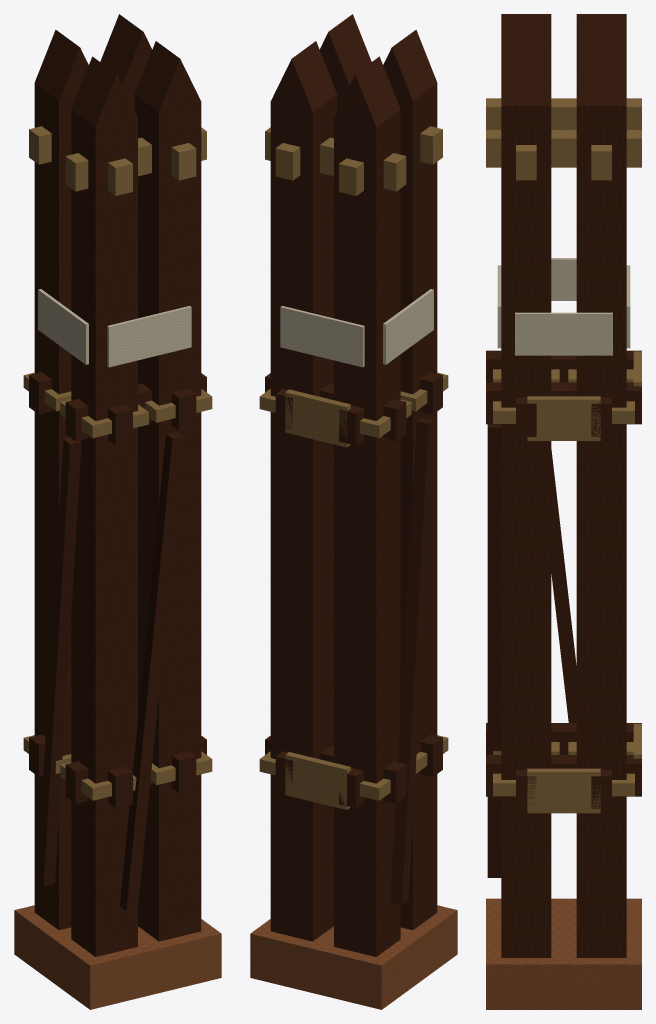
The model's file is Berber_PalisadeBastion_Age2_corner_90.fbx.
3 views of the same model, side by side, from view 1: azimuth 30°, elevation 25°; view 2: azimuth 150°, elevation 25°; view 3: azimuth 270°, elevation 25° (orthographic). The views are drawn at different scales.
Parts seen in each view (by area): view 1: split_timber_upright.008, split_timber_upright.010, split_timber_upright.009, compacted_earth_footing.002, terminal_diagonal_stay.012, terminal_diagonal_stay.010, native_owner_stripe_source.010, split_timber_upright.011, native_owner_stripe_source.008, locking_head_tie_x.004, bundle_cross_tie_x.010, bundle_cross_tie_y.009 (+12 smaller); view 2: split_timber_upright.009, split_timber_upright.011, split_timber_upright.008, compacted_earth_footing.002, terminal_diagonal_stay.010, native_owner_stripe_source.011, exposed_wall_socket_collar.008, exposed_wall_socket_collar.009, split_timber_upright.010, native_owner_stripe_source.008, locking_head_tie_x.005, bundle_cross_tie_x.011 (+10 smaller); view 3: split_timber_upright.010, split_timber_upright.011, compacted_earth_footing.002, terminal_diagonal_stay.012, native_owner_stripe_source.009, exposed_wall_socket_collar.006, terminal_diagonal_stay.010, exposed_wall_socket_collar.007, locking_head_tie_y.005, locking_head_tie_y.004, split_timber_upright.008, split_timber_upright.009 (+13 smaller).
Part boxes in pixels (left/top/right/bottom): split_timber_upright.008: left=71, top=56, right=137, bottom=956; split_timber_upright.010: left=134, top=41, right=201, bottom=941; split_timber_upright.009: left=34, top=30, right=88, bottom=930; compacted_earth_footing.002: left=14, top=905, right=221, bottom=1009; terminal_diagonal_stay.012: left=119, top=432, right=183, bottom=911; terminal_diagonal_stay.010: left=37, top=437, right=81, bottom=886; native_owner_stripe_source.010: left=107, top=306, right=191, bottom=367; split_timber_upright.011: left=100, top=14, right=152, bottom=109; native_owner_stripe_source.008: left=38, top=289, right=88, bottom=364; locking_head_tie_x.004: left=65, top=127, right=206, bottom=191; bundle_cross_tie_x.010: left=65, top=373, right=206, bottom=441; bundle_cross_tie_y.009: left=171, top=751, right=196, bottom=792; split_timber_upright.009: left=334, top=56, right=400, bottom=956; split_timber_upright.011: left=270, top=41, right=337, bottom=941; split_timber_upright.008: left=383, top=30, right=437, bottom=930; compacted_earth_footing.002: left=250, top=905, right=457, bottom=1009; terminal_diagonal_stay.010: left=390, top=417, right=434, bottom=904; native_owner_stripe_source.011: left=280, top=306, right=364, bottom=367; exposed_wall_socket_collar.008: left=285, top=752, right=350, bottom=809; exposed_wall_socket_collar.009: left=285, top=389, right=350, bottom=447; split_timber_upright.010: left=319, top=14, right=371, bottom=109; native_owner_stripe_source.008: left=383, top=289, right=433, bottom=364; locking_head_tie_x.005: left=265, top=127, right=406, bottom=191; bundle_cross_tie_x.011: left=265, top=373, right=406, bottom=441; split_timber_upright.010: left=501, top=46, right=551, bottom=957; split_timber_upright.011: left=576, top=46, right=626, bottom=957; compacted_earth_footing.002: left=486, top=898, right=641, bottom=1009; terminal_diagonal_stay.012: left=487, top=424, right=501, bottom=877; native_owner_stripe_source.009: left=515, top=312, right=612, bottom=355; exposed_wall_socket_collar.006: left=527, top=768, right=600, bottom=813; terminal_diagonal_stay.010: left=551, top=449, right=576, bottom=722; exposed_wall_socket_collar.007: left=527, top=396, right=600, bottom=440; locking_head_tie_y.005: left=486, top=130, right=641, bottom=167; locking_head_tie_y.004: left=486, top=98, right=641, bottom=129; split_timber_upright.008: left=501, top=14, right=551, bottom=45; split_timber_upright.009: left=576, top=14, right=626, bottom=45.
Size of the model in its own units: 68.29 by 458 by 68.29.
4 materials, 4 textured.
